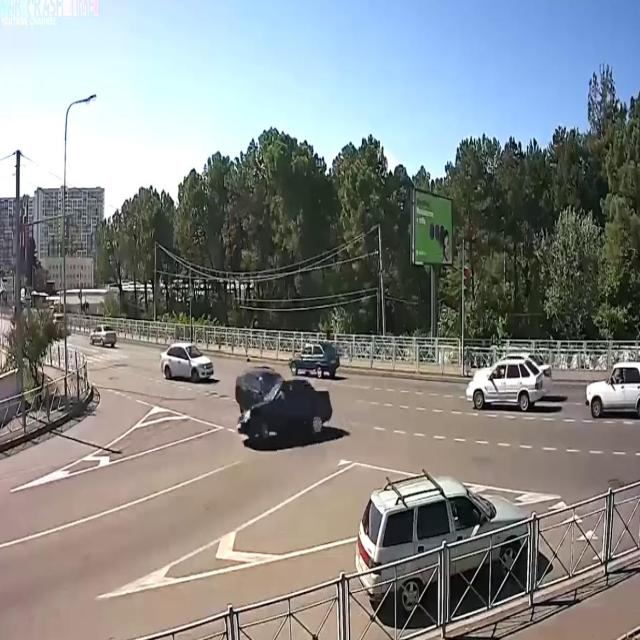accident: (233, 360, 336, 457)
non_accident: (462, 345, 640, 427)
